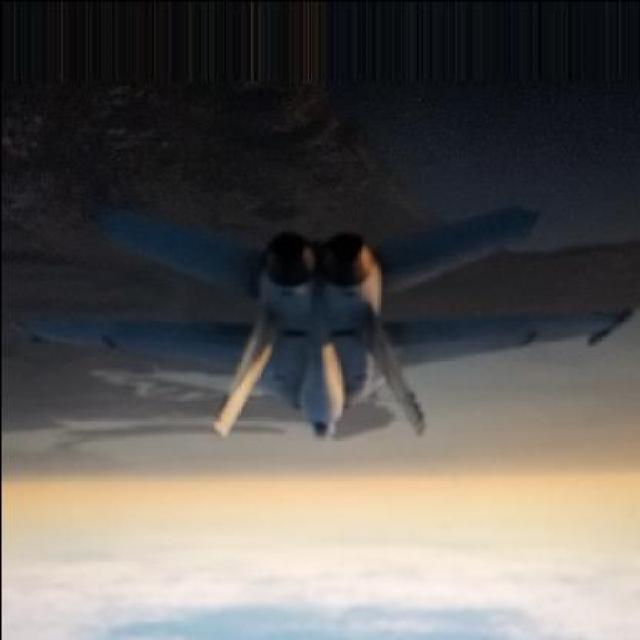iha: (3, 201, 640, 437)
